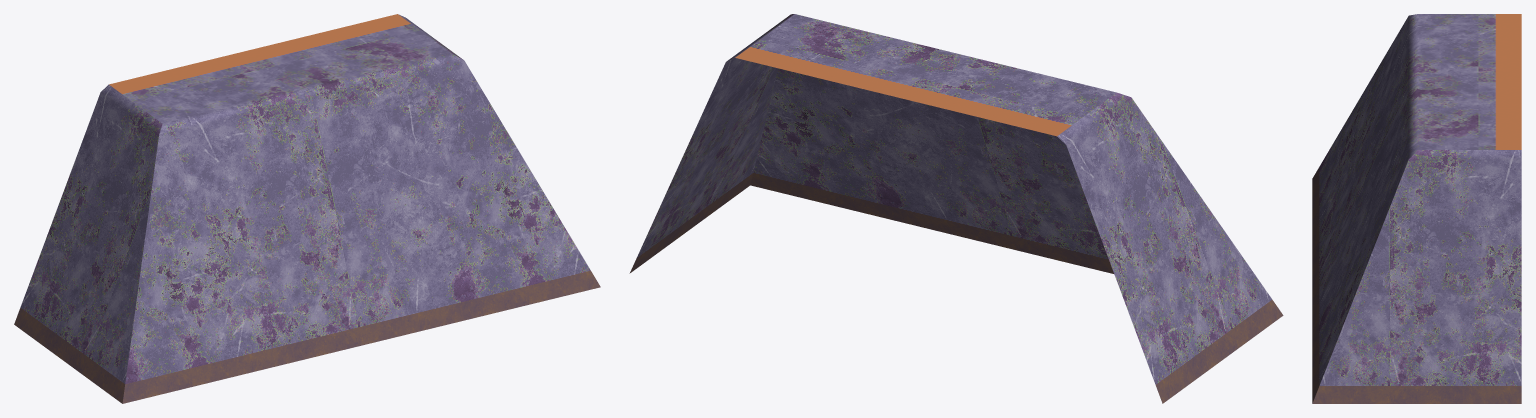
Rendered from TempleBaseDetail01_Art.glb.
3 renders of one model, left to right at view 1: azimuth 30°, elevation 25°; view 2: azimuth 150°, elevation 25°; view 3: azimuth 270°, elevation 25°, orthographic. The views are drawn at different scales.
Parts seen in each view (by area): view 1: TempleBaseDetail01_Art; view 2: TempleBaseDetail01_Art; view 3: TempleBaseDetail01_Art.
Part boxes in pixels (x1=…): TempleBaseDetail01_Art: x1=14, y1=14, x2=600, y2=403; TempleBaseDetail01_Art: x1=629, y1=14, x2=1283, y2=403; TempleBaseDetail01_Art: x1=1312, y1=14, x2=1521, y2=403.
Bounding box in the file's own units: 5.94 × 2.58 × 2.33.
1 material, 1 textured.
